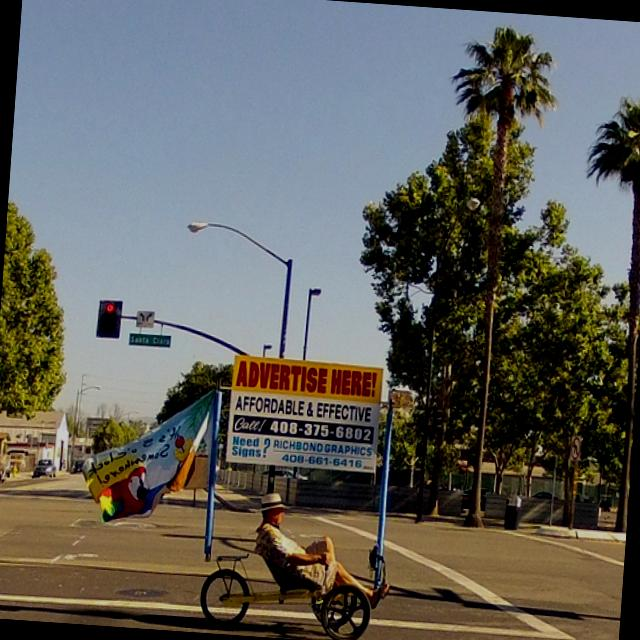Vehicle: (460, 486, 490, 511), (32, 456, 57, 479), (73, 459, 84, 473)
